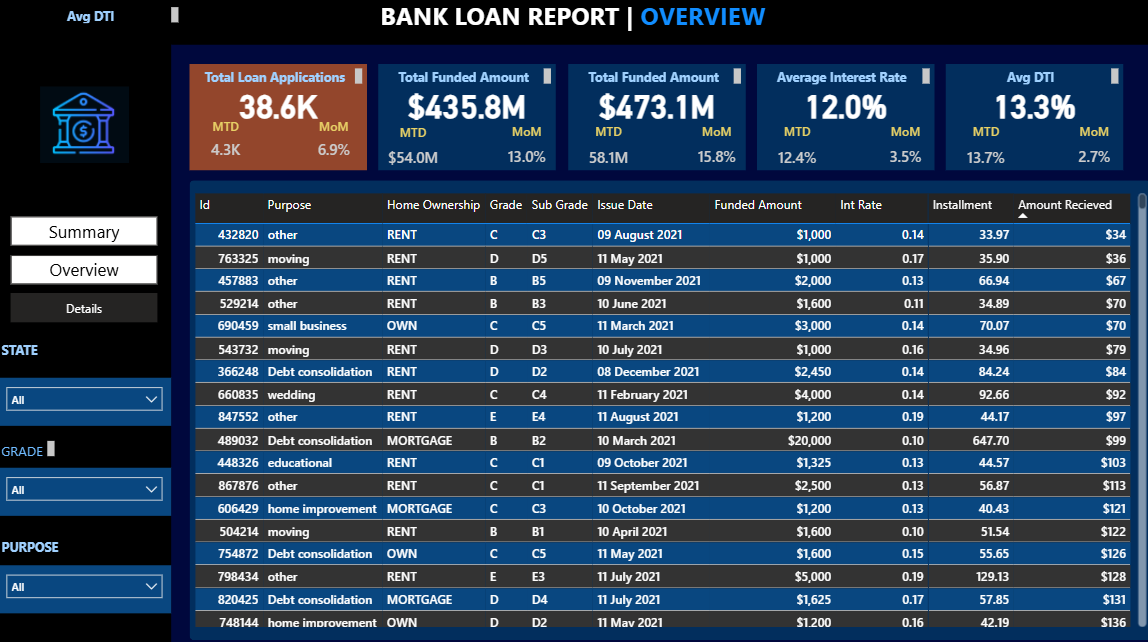

The page's visual inventory and layout, read from the dashboard file:
{"tool":"powerbi","page":{"name":"Details","canvas":[1280,720],"ordinal":2},"visuals":[{"type":"shape","box":[0,54.3,191.4,665.7],"z":0},{"type":"shape","box":[211.4,77.1,194.9,116.6],"z":0,"group":"g1"},{"type":"shape","box":[418.6,77.1,194.9,116.6],"z":0,"group":"g2"},{"type":"shape","box":[627.1,77.1,194.9,116.6],"z":0,"group":"g3"},{"type":"shape","box":[834.3,77.1,194.9,116.6],"z":0,"group":"g4"},{"type":"shape","box":[1041.4,77.1,194.9,116.6],"z":0,"group":"g5"},{"type":"shape","box":[0,0,1280,55.7],"z":1000},{"type":"card","fields":{"Values":["financial_loan.Total Loan Applications"]},"box":[211.4,92.2,194.9,57.6],"z":1000,"group":"g1"},{"type":"card","fields":{"Values":["financial_loan.Total Funded Amount"]},"box":[418.6,92.2,194.9,57.6],"z":1000,"group":"g2"},{"type":"card","fields":{"Values":["financial_loan.Total Amount Recieved"]},"box":[627.1,92.2,194.9,57.6],"z":1000,"group":"g3"},{"type":"card","fields":{"Values":["financial_loan.Average Interest Rate"]},"box":[834.3,92.2,194.9,57.6],"z":1000,"group":"g4"},{"type":"card","fields":{"Values":["financial_loan.Avg DTI"]},"box":[1041.4,92.2,194.9,57.6],"z":1000,"group":"g5"},{"type":"textbox","box":[10,10,194.9,27.4],"z":2000},{"type":"textbox","box":[211.4,77.1,194.9,27.4],"z":2000,"group":"g1"},{"type":"textbox","box":[418.6,77.1,194.9,27.4],"z":2000,"group":"g2"},{"type":"textbox","box":[627.1,77.1,194.9,27.4],"z":2000,"group":"g3"},{"type":"textbox","box":[834.3,77.1,194.9,27.4],"z":2000,"group":"g4"},{"type":"textbox","box":[1041.4,77.1,194.9,27.4],"z":2000,"group":"g5"},{"type":"textbox","box":[415.8,0,447.3,63.1],"z":3000},{"type":"card","title":"MTD","fields":{"Values":["financial_loan.MTD Loan Applications"]},"box":[221,136.1,60.4,56.3],"z":3000,"group":"g1"},{"type":"card","title":"MTD","fields":{"Values":["financial_loan.MTD Total Amount Recieved"]},"box":[628.3,141.6,85.7,62.9],"z":3000,"group":"g3"},{"type":"card","title":"MTD","fields":{"Values":["financial_loan.MTD Avg Int Rate"]},"box":[835.5,141.6,85.7,62.9],"z":3000,"group":"g4"},{"type":"card","title":"MTD","fields":{"Values":["financial_loan.MTD Avg DTI"]},"box":[1042.6,141.6,85.7,62.9],"z":3000,"group":"g5"},{"type":"card","title":"MTD","fields":{"Values":["financial_loan.MTD Funded Amount"]},"box":[419.8,142.7,73.8,61.2],"z":3000,"group":"g2"},{"type":"group","id":"g1","title":"Group 1","box":[211.4,77.1,194.3,117.1],"z":4000},{"type":"card","title":"MoM","fields":{"Values":["financial_loan.MoM Loan Applications"]},"box":[344.5,136.1,50.8,56.3],"z":4000,"group":"g1"},{"type":"card","title":"MoM","fields":{"Values":["financial_loan.MoM Total Funded Amount"]},"box":[551.1,142.1,60,60],"z":4000,"group":"g2"},{"type":"card","title":"MoM","fields":{"Values":["financial_loan.MoM Total Amount Recieved"]},"box":[759.6,142.1,60,60],"z":4000,"group":"g3"},{"type":"card","title":"MoM","fields":{"Values":["financial_loan.MoM Avg Int Rate"]},"box":[966.8,142.1,60,60],"z":4000,"group":"g4"},{"type":"card","title":"MoM","fields":{"Values":["financial_loan.MoM Avg DTI"]},"box":[1173.9,142.1,60,60],"z":4000,"group":"g5"},{"type":"group","id":"g2","title":"Group 1","box":[418.6,77.1,195.7,127.1],"z":5000},{"type":"group","id":"g3","title":"Group 1","box":[627.1,77.1,194.3,127.1],"z":6000},{"type":"group","id":"g4","title":"Group 1","box":[834.3,77.1,194.3,127.1],"z":7000},{"type":"group","id":"g5","title":"Group 1","box":[1041.4,77.1,194.3,127.1],"z":8000},{"type":"shape","box":[211.3,204.5,1055.2,505],"z":9000},{"type":"tableEx","fields":{"Values":["financial_loan.id","financial_loan.purpose","financial_loan.home_ownership","financial_loan.grade","financial_loan.sub_grade","financial_loan.issue_date","financial_loan.Total Funded Amount","Sum(financial_loan.int_rate)","Sum(financial_loan.installment)","financial_loan.Total Amount Recieved"]},"box":[211.3,214.1,1055.2,485.8],"z":10000},{"type":"textbox","box":[0,375.7,68.6,28.6],"z":11000},{"type":"slicer","fields":{"Values":["financial_loan.address_state"]},"box":[0,421.4,191.4,52.9],"z":12000},{"type":"slicer","fields":{"Values":["financial_loan.grade"]},"box":[0,520,191.4,52.9],"z":13000},{"type":"textbox","box":[0,485.7,68.6,28.6],"z":14000},{"type":"slicer","fields":{"Values":["financial_loan.purpose"]},"box":[0,627.1,191.4,52.9],"z":15000},{"type":"textbox","box":[0,592.9,107.1,31.4],"z":16000},{"type":"pageNavigator","box":[15.1,244.3,161.9,116.6],"z":17000},{"type":"image","box":[42.5,91.9,107,102.9],"z":18000}]}

Visuals, with their boxes in screenshot pixels (x1, y1, x2, y2), scaled from the page's 1280x720 canvas onto the 1148x642 screenshot:
shape: 0,48,172,641
shape: 190,69,364,173
shape: 375,69,550,173
shape: 562,69,737,173
shape: 748,69,923,173
shape: 934,69,1109,173
shape: 0,0,1147,50
card - financial_loan.Total Loan Applications: 190,82,364,134
card - financial_loan.Total Funded Amount: 375,82,550,134
card - financial_loan.Total Amount Recieved: 562,82,737,134
card - financial_loan.Average Interest Rate: 748,82,923,134
card - financial_loan.Avg DTI: 934,82,1109,134
textbox: 9,9,184,33
textbox: 190,69,364,93
textbox: 375,69,550,93
textbox: 562,69,737,93
textbox: 748,69,923,93
textbox: 934,69,1109,93
textbox: 373,0,774,56
"MTD" card: 198,121,252,172
"MTD" card: 564,126,640,182
"MTD" card: 749,126,826,182
"MTD" card: 935,126,1012,182
"MTD" card: 377,127,443,182
"Group 1" group: 190,69,364,173
"MoM" card: 309,121,355,172
"MoM" card: 494,127,548,180
"MoM" card: 681,127,735,180
"MoM" card: 867,127,921,180
"MoM" card: 1053,127,1107,180
"Group 1" group: 375,69,551,182
"Group 1" group: 562,69,737,182
"Group 1" group: 748,69,923,182
"Group 1" group: 934,69,1108,182
shape: 190,182,1136,633
tableEx - financial_loan.id x financial_loan.purpose: 190,191,1136,624
textbox: 0,335,62,361
slicer - financial_loan.address_state: 0,376,172,423
slicer - financial_loan.grade: 0,464,172,511
textbox: 0,433,62,459
slicer - financial_loan.purpose: 0,559,172,606
textbox: 0,529,96,557
pageNavigator: 14,218,159,322
image: 38,82,134,174
